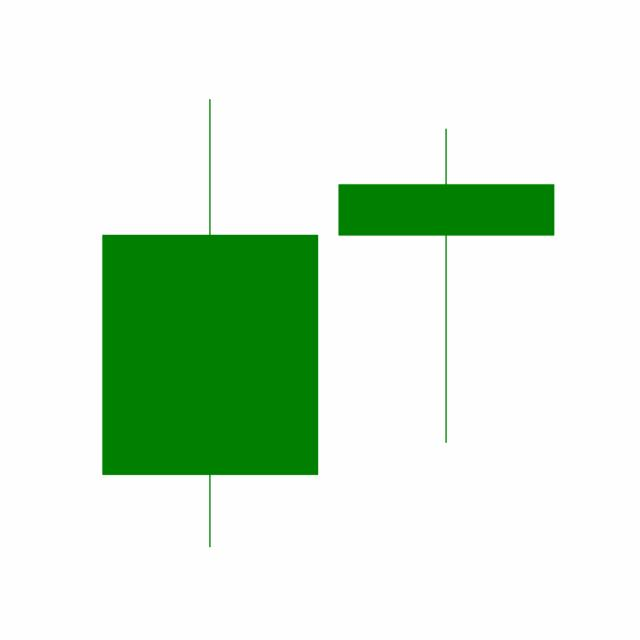Dragonfly Doji: (327, 124, 565, 446)
